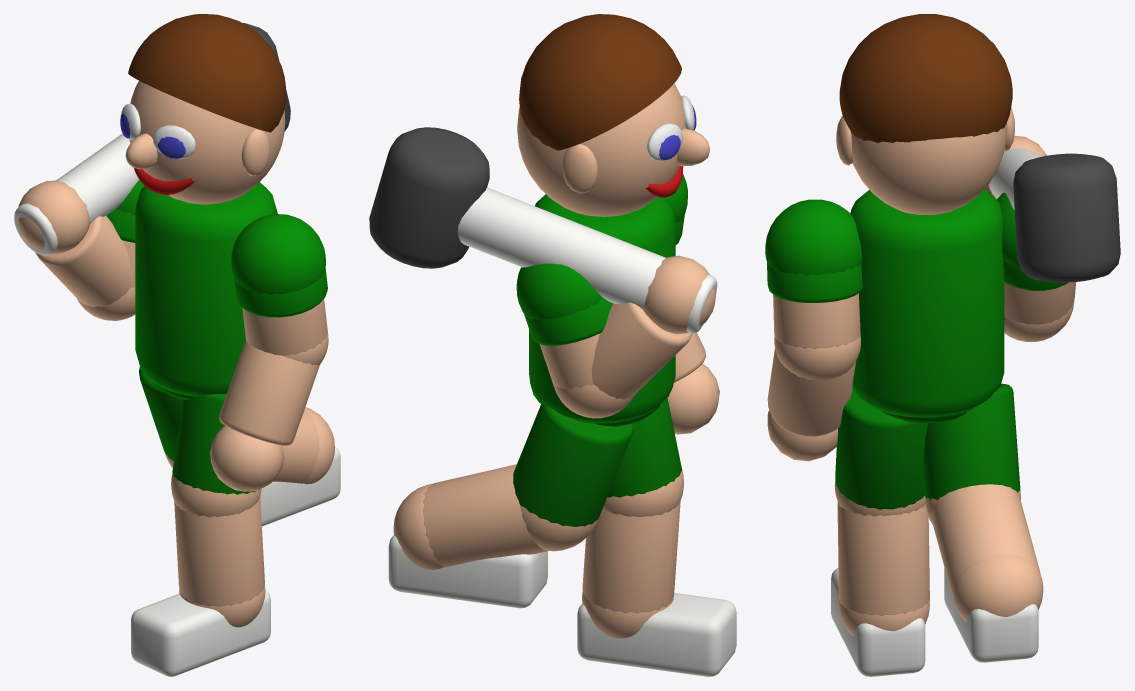
3 views of the same model, side by side, from view 1: azimuth 30°, elevation 25°; view 2: azimuth 150°, elevation 25°; view 3: azimuth 270°, elevation 25° (orthographic). The views are drawn at different scales.
Visible parts, largest first — view 1: torso, hair, head, shin_n, shoe_n, farm_n, shoulder_ball_n, farm_f, handle, thigh_n, hand_n, hand_f (+15 smaller); view 2: hair, mallet, handle, thigh_f, head, shoe_n, shin_n, shin_f, torso, shoe_f, farm_f, thigh_n (+15 smaller); view 3: torso, hair, mallet, head, shin_n, thigh_n, thigh_f, shin_f, shoulder_ball_n, farm_n, ankle_ball_f, shoe_n (+13 smaller).
Boxes of the visible parts, bbox=[...] form: torso: bbox=[135, 182, 277, 396]; hair: bbox=[128, 14, 286, 132]; head: bbox=[129, 80, 285, 204]; shin_n: bbox=[174, 496, 264, 606]; shoe_n: bbox=[131, 590, 270, 676]; farm_n: bbox=[219, 339, 319, 445]; shoulder_ball_n: bbox=[231, 214, 325, 294]; farm_f: bbox=[35, 216, 132, 307]; handle: bbox=[14, 133, 139, 255]; thigh_n: bbox=[172, 394, 259, 494]; hand_n: bbox=[210, 425, 284, 491]; hand_f: bbox=[18, 180, 90, 253]; hair: bbox=[519, 14, 681, 150]; mallet: bbox=[369, 127, 489, 268]; handle: bbox=[457, 187, 717, 333]; thigh_f: bbox=[513, 404, 633, 526]; head: bbox=[517, 83, 685, 216]; shoe_n: bbox=[577, 593, 736, 676]; shin_n: bbox=[582, 501, 680, 613]; shin_f: bbox=[423, 464, 547, 567]; torso: bbox=[529, 194, 675, 423]; shoe_f: bbox=[388, 535, 547, 608]; farm_f: bbox=[591, 302, 692, 399]; thigh_n: bbox=[607, 397, 681, 497]; torso: bbox=[850, 189, 1004, 417]; hair: bbox=[839, 14, 1012, 142]; mallet: bbox=[1013, 153, 1120, 282]; head: bbox=[851, 123, 1007, 214]; shin_n: bbox=[837, 502, 929, 615]; thigh_n: bbox=[835, 390, 927, 509]; thigh_f: bbox=[923, 383, 1020, 499]; shin_f: bbox=[931, 484, 1040, 597]; shoulder_ball_n: bbox=[765, 199, 861, 275]; farm_n: bbox=[767, 349, 855, 436]; ankle_ball_f: bbox=[952, 554, 1043, 621]; shoe_n: bbox=[831, 568, 925, 676].
Size of the model in its own units: 0.8454 by 1.62 by 0.8153.
